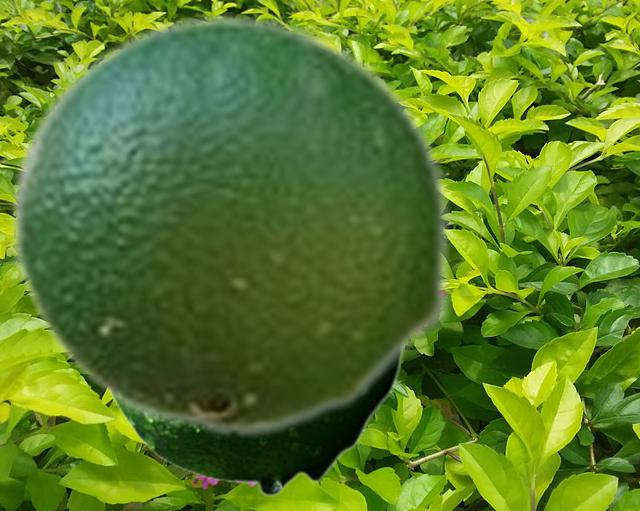dalandan: (8, 12, 453, 439), (107, 359, 405, 497)
